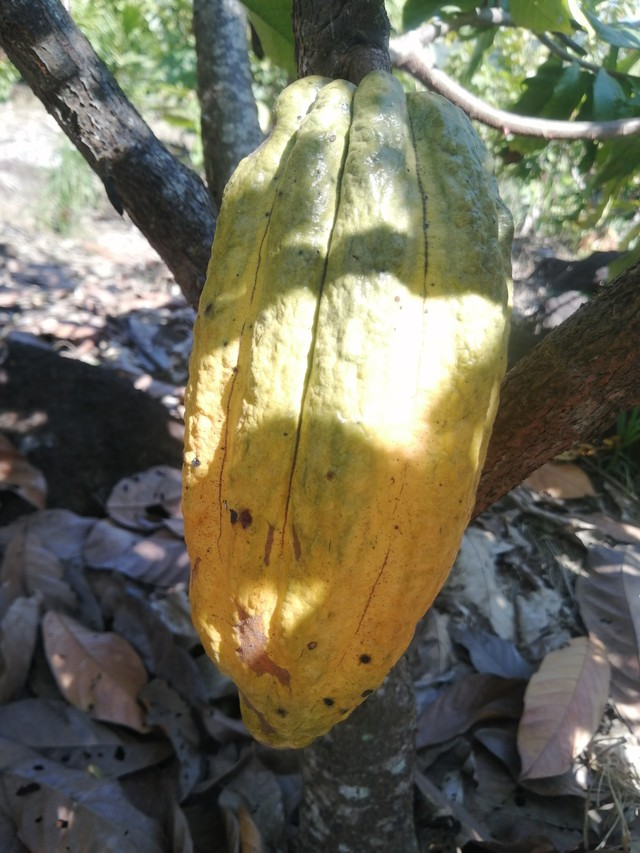Health: (156, 53, 535, 760)
